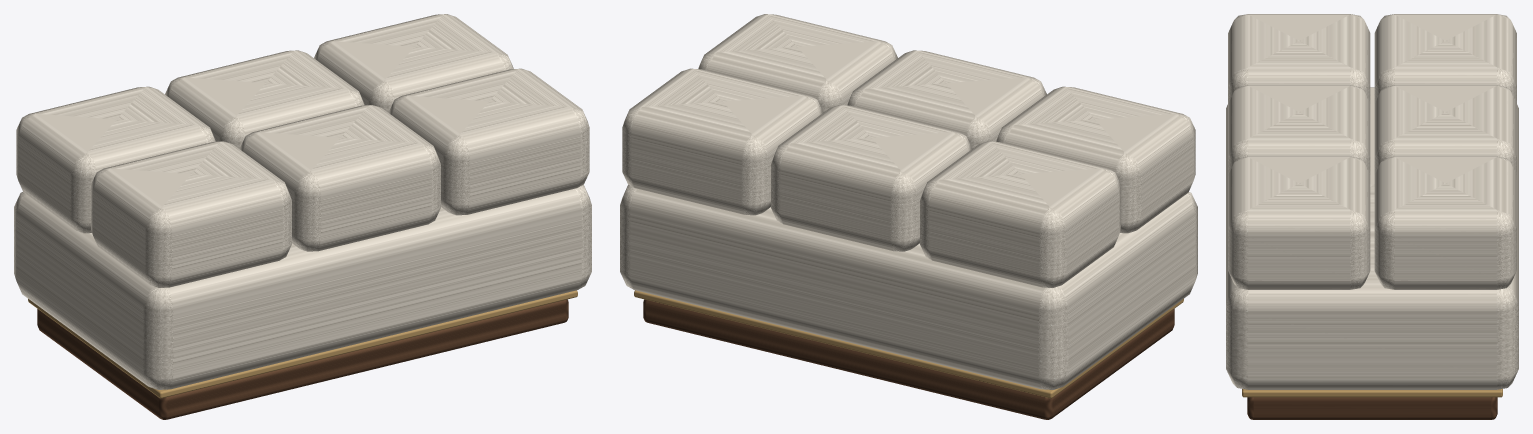
Rendered from obj_birim_ottoman_bench.glb.
The picture shows the model from 3 angles, left to right: view 1: azimuth 30°, elevation 25°; view 2: azimuth 150°, elevation 25°; view 3: azimuth 270°, elevation 25°; orthographic projection.
Parts seen in each view (by area): view 1: obj_birim_ottoman_bench; view 2: obj_birim_ottoman_bench; view 3: obj_birim_ottoman_bench.
Part boxes in pixels (x1=…): obj_birim_ottoman_bench: x1=14, y1=14, x2=591, y2=419; obj_birim_ottoman_bench: x1=620, y1=14, x2=1197, y2=419; obj_birim_ottoman_bench: x1=1226, y1=14, x2=1518, y2=419.
Size of the model in its own units: 0.95 by 0.44 by 0.55.
3 materials, 2 textured.
